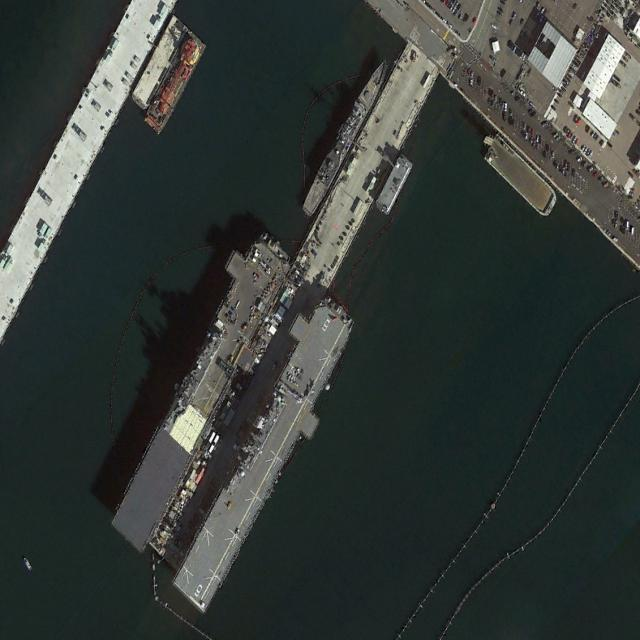Frigate: (299, 51, 393, 223)
Landing: (101, 213, 301, 567), (162, 280, 364, 627)
